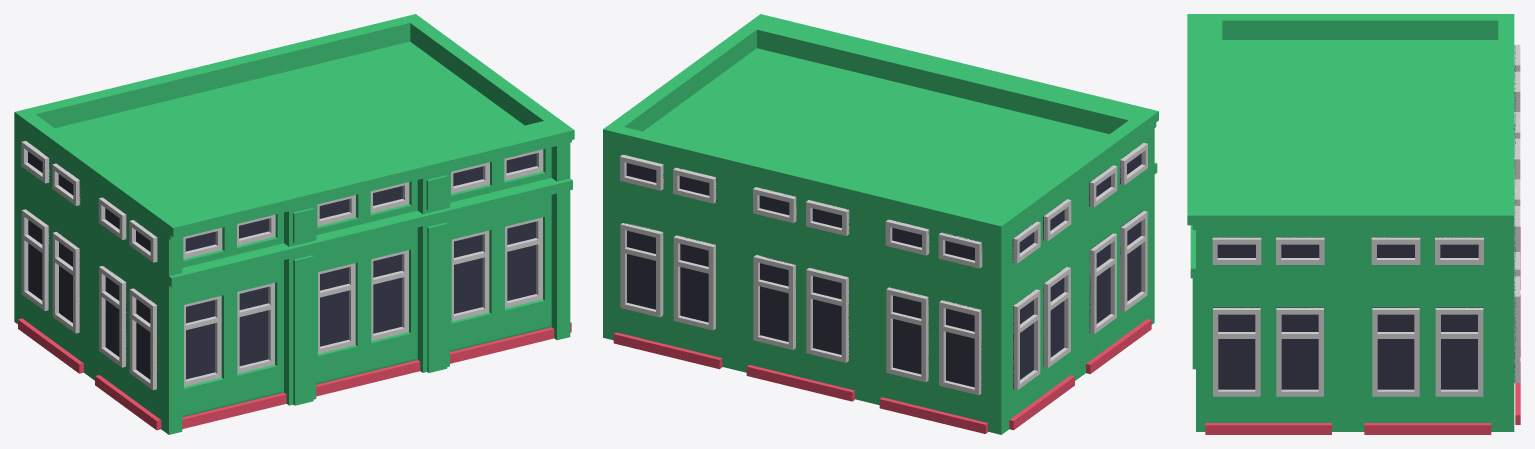
File: 3buildingBodyNewWindowNoRoof.gltf
3 renders of one model, left to right at view 1: azimuth 30°, elevation 25°; view 2: azimuth 150°, elevation 25°; view 3: azimuth 270°, elevation 25°, orthographic. The views are drawn at different scales.
Visible parts, largest first — view 1: Main building, Window glass 2, Window frames 4, Window frames 6, Window glass 4, Decors 1, Decors 3, Box 2; view 2: Main building, Window frames, Window glass, Window frames 6, Window glass 4, Decors, Decors 3; view 3: Main building, Window glass 3, Window frames 5, Decors 2, Window frames, Decors.
Part boxes in pixels (x1=…): Main building: x1=14, y1=14, x2=574, y2=434; Window glass 2: x1=185, y1=153, x2=536, y2=379; Window frames 4: x1=183, y1=149, x2=543, y2=386; Window frames 6: x1=21, y1=141, x2=157, y2=390; Window glass 4: x1=26, y1=151, x2=157, y2=388; Decors 1: x1=182, y1=327, x2=554, y2=428; Decors 3: x1=18, y1=318, x2=161, y2=430; Box 2: x1=182, y1=325, x2=551, y2=417; Main building: x1=603, y1=14, x2=1158, y2=434; Window frames: x1=620, y1=154, x2=982, y2=395; Window glass: x1=623, y1=154, x2=982, y2=393; Window frames 6: x1=1012, y1=143, x2=1147, y2=390; Window glass 4: x1=1012, y1=153, x2=1143, y2=389; Decors: x1=613, y1=332, x2=987, y2=433; Decors 3: x1=1009, y1=319, x2=1151, y2=430; Main building: x1=1187, y1=14, x2=1514, y2=431; Window glass 3: x1=1213, y1=237, x2=1483, y2=389; Window frames 5: x1=1212, y1=237, x2=1483, y2=396; Decors 2: x1=1205, y1=423, x2=1491, y2=434; Window frames: x1=1514, y1=44, x2=1520, y2=383; Decors: x1=1515, y1=227, x2=1520, y2=424.
Size of the model in its own units: 0.0924 by 0.045 by 0.0629.
